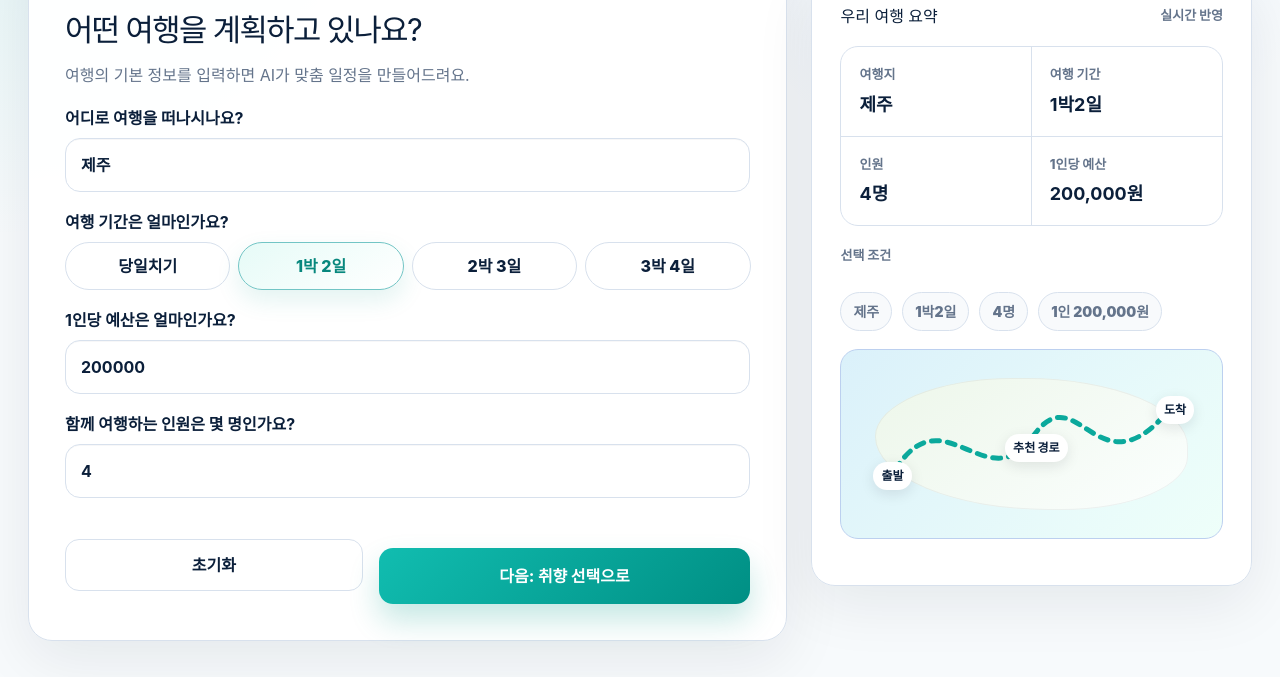
Scenario: DemoPlanner › creates and displays a share URL for a generated trip
(page scrolled)
Click the button "다음: 취향 선택으로" at (564, 576), box [378,548,750,604]
(page scrolled)
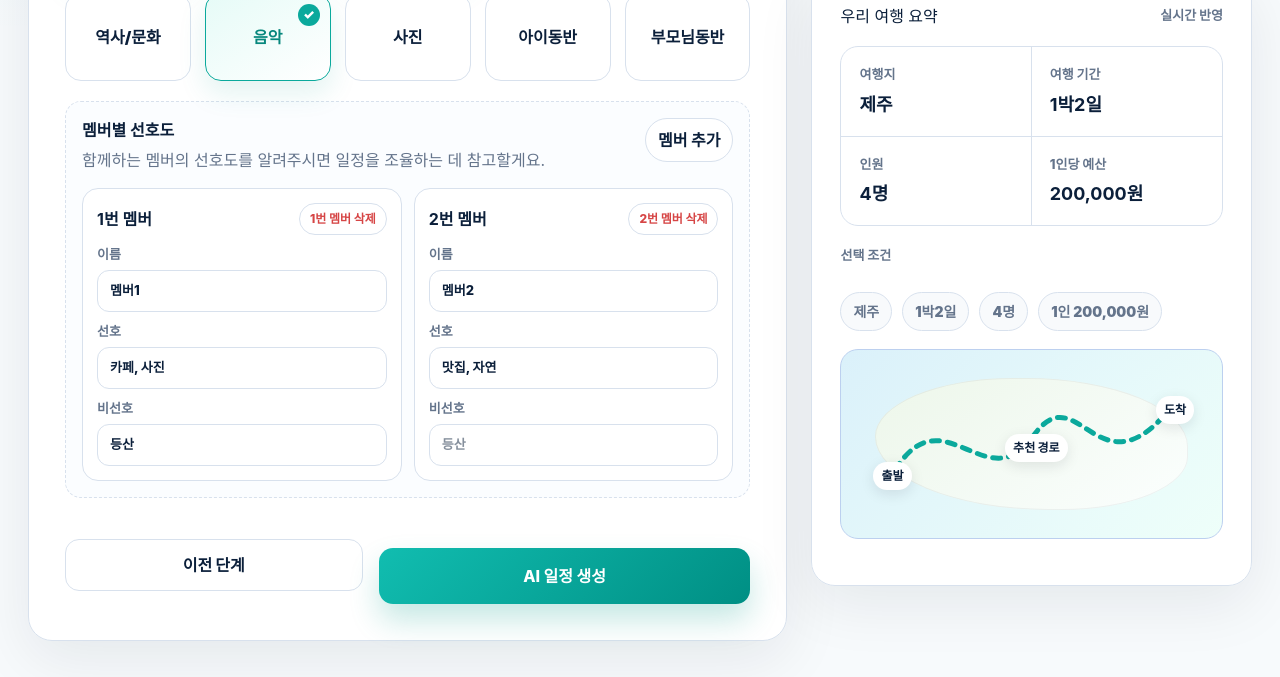
Click the button "AI 일정 생성" at (564, 576), box [378,548,750,604]
(page scrolled)
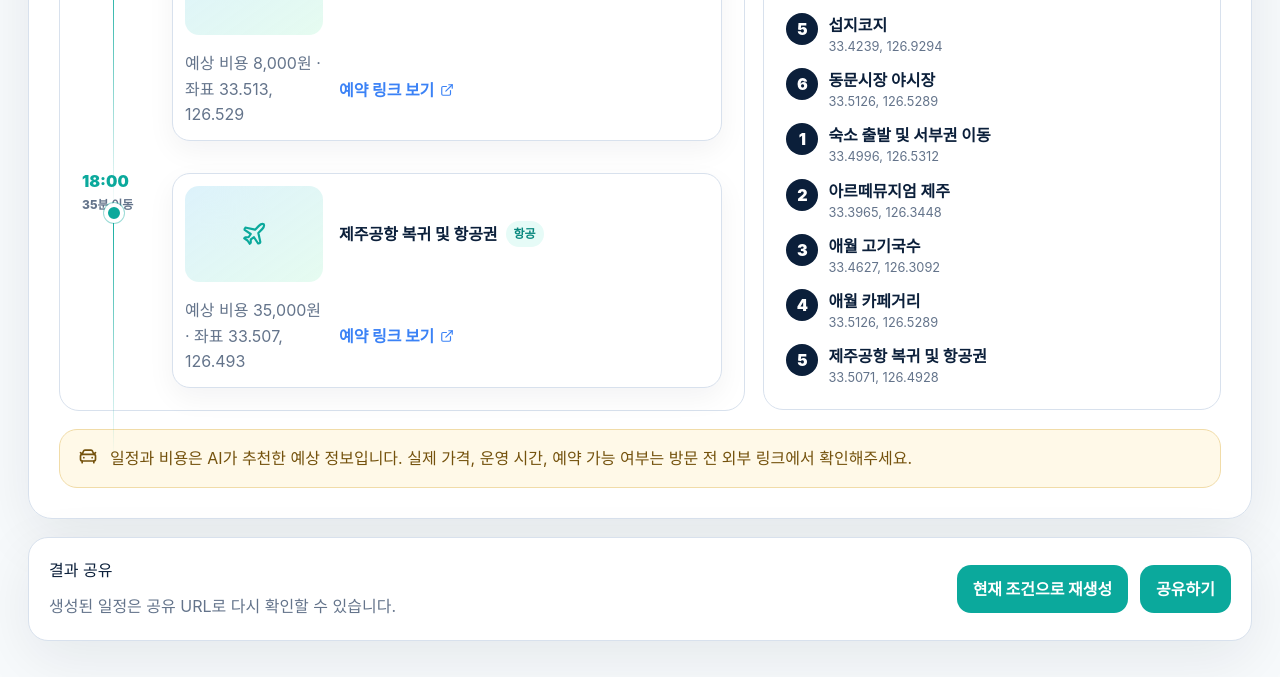
Click the button "공유하기" at (1186, 589), box [1140,565,1231,613]
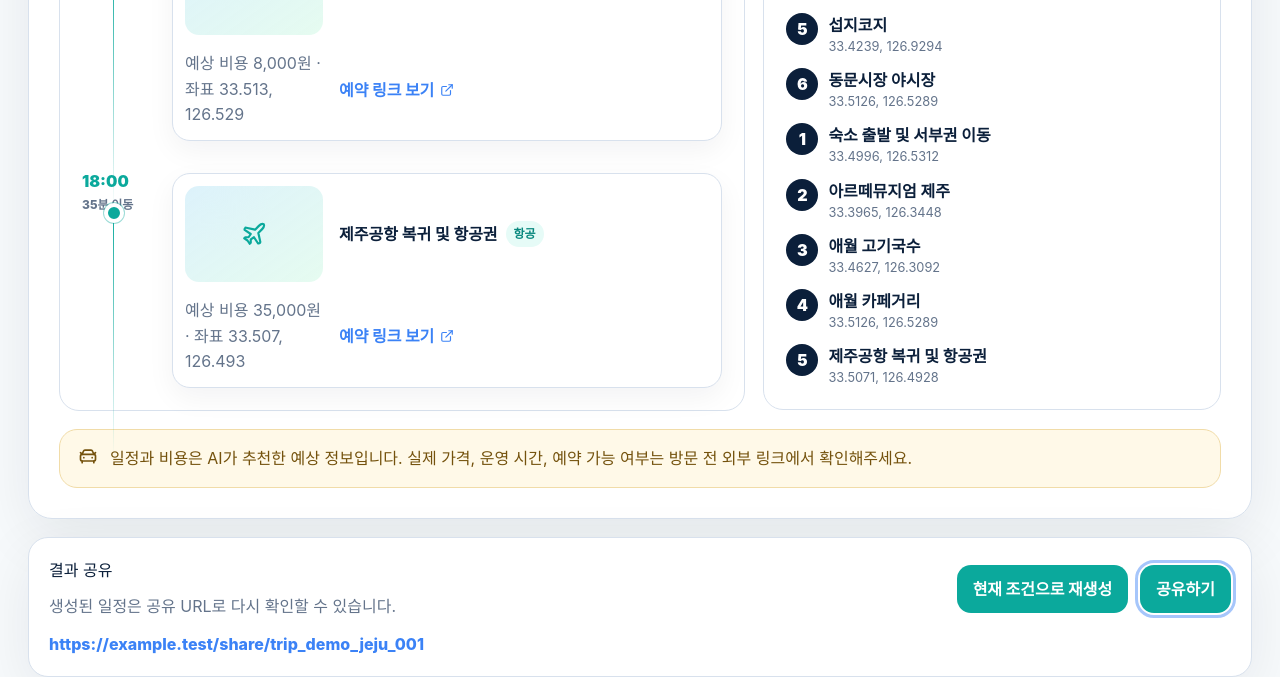
Result: the link "https://example.test/share/trip_demo_jeju_001" is shown at [49,634,424,654]
